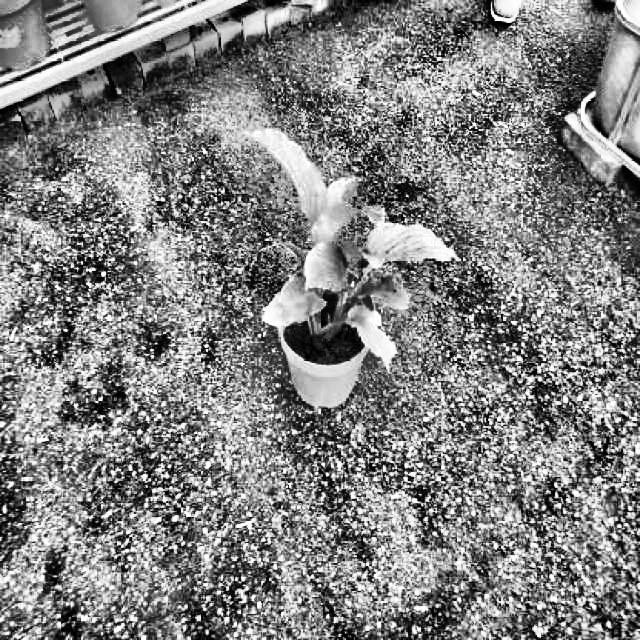plants: (245, 127, 462, 367)
